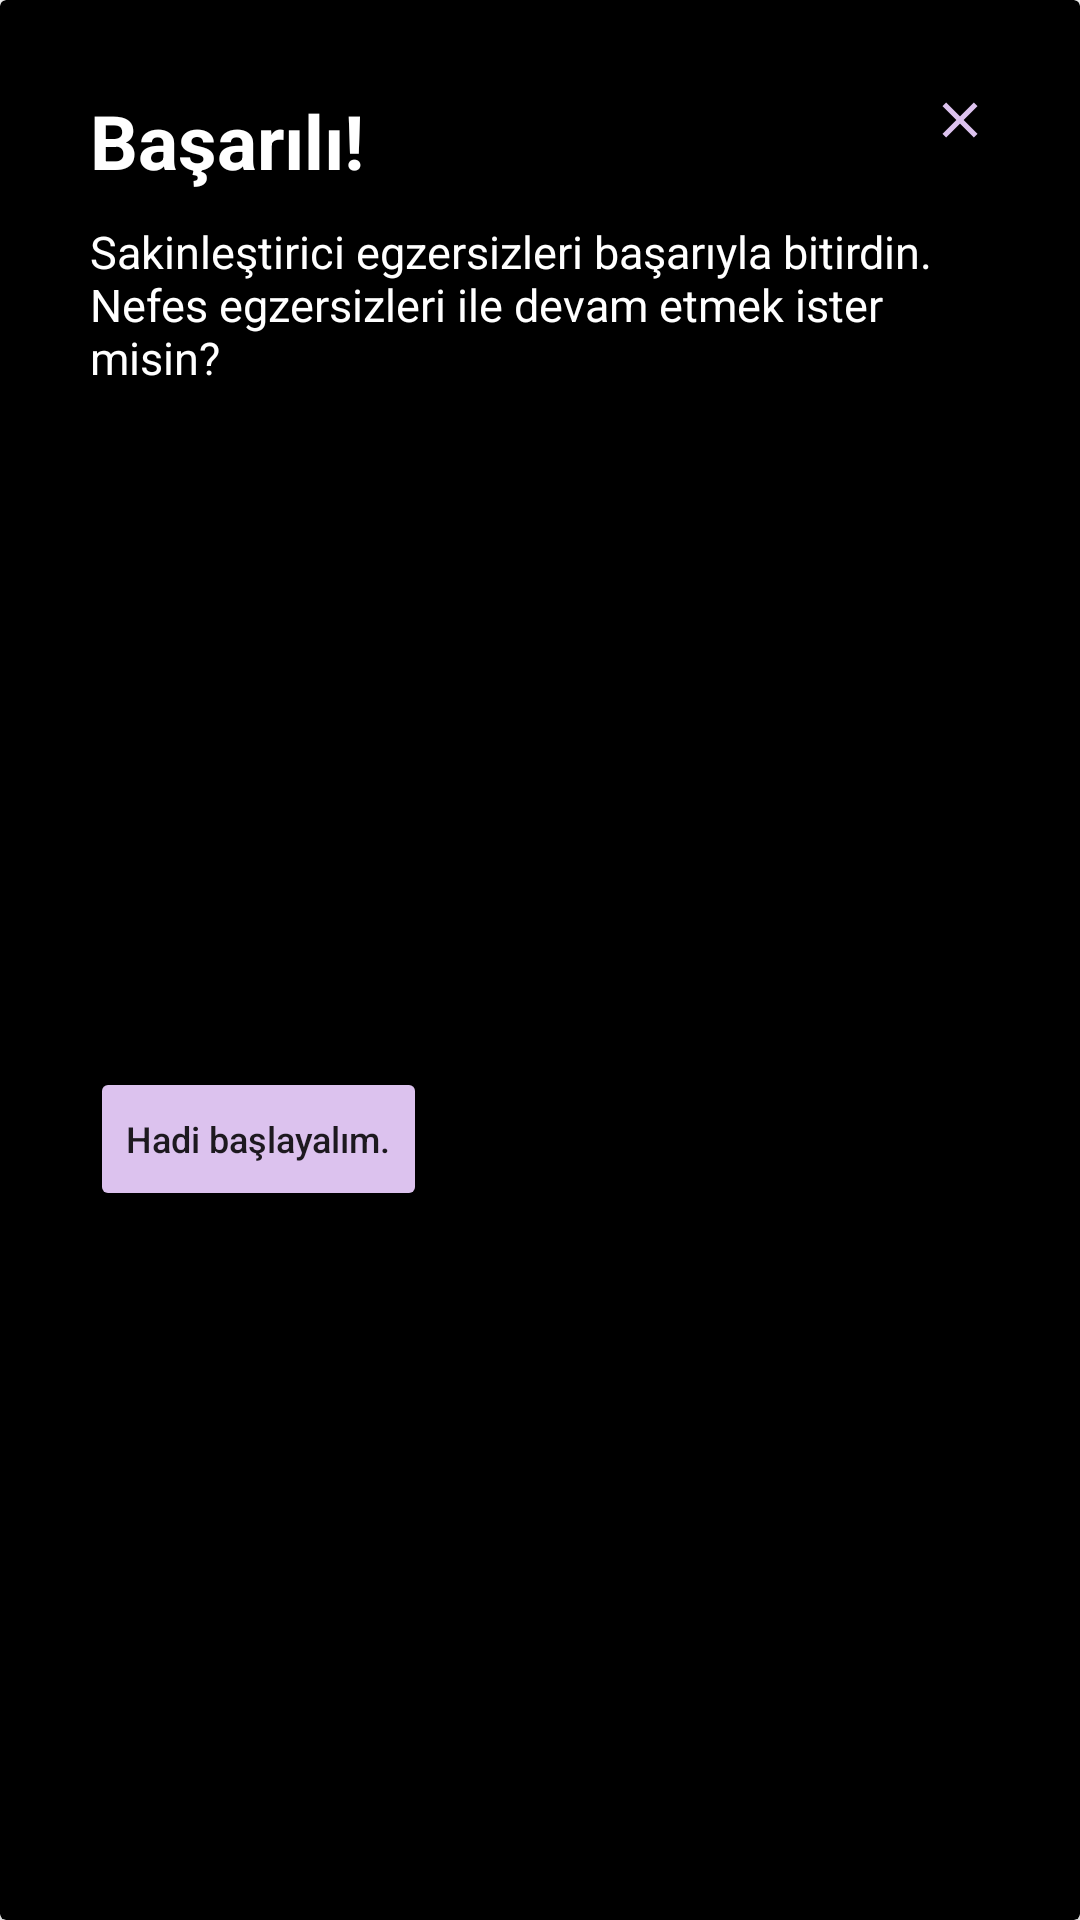

Screen size 1080*1920. Icon name, then its center in pixels as (x=x, y=y):
close: (x=960, y=120)
